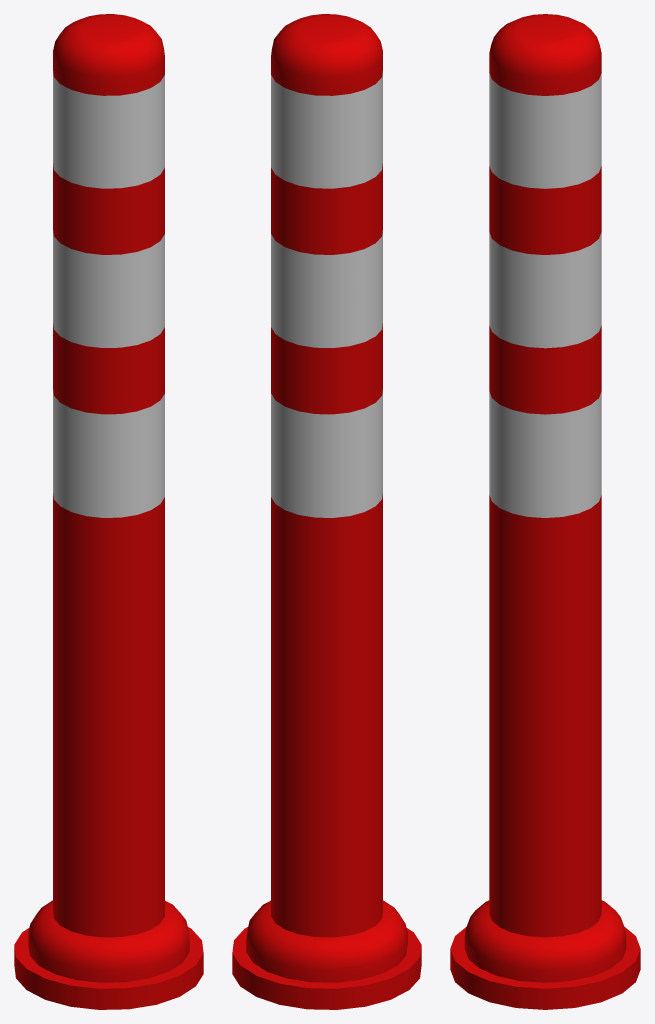
File: Road_pole.fbx
3 views of the same model, side by side, from view 1: azimuth 30°, elevation 25°; view 2: azimuth 150°, elevation 25°; view 3: azimuth 270°, elevation 25° (orthographic).
Parts seen in each view (by area): view 1: Road_pole; view 2: Road_pole; view 3: Road_pole.
Boxes of the visible parts, x1,y1,x2,y2 form: Road_pole: (14,14,203,1009); Road_pole: (232,14,421,1009); Road_pole: (450,14,640,1009).
Size of the model in its own units: 2.94 by 16.03 by 2.94.
